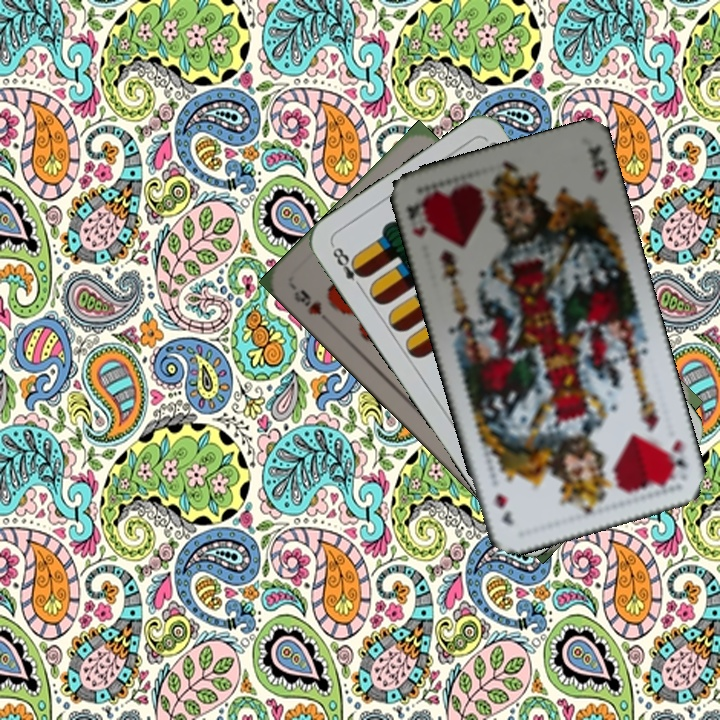E8: (328, 241, 369, 293)
H9: (289, 285, 325, 318)
HK: (401, 194, 436, 241), (662, 435, 688, 482)
